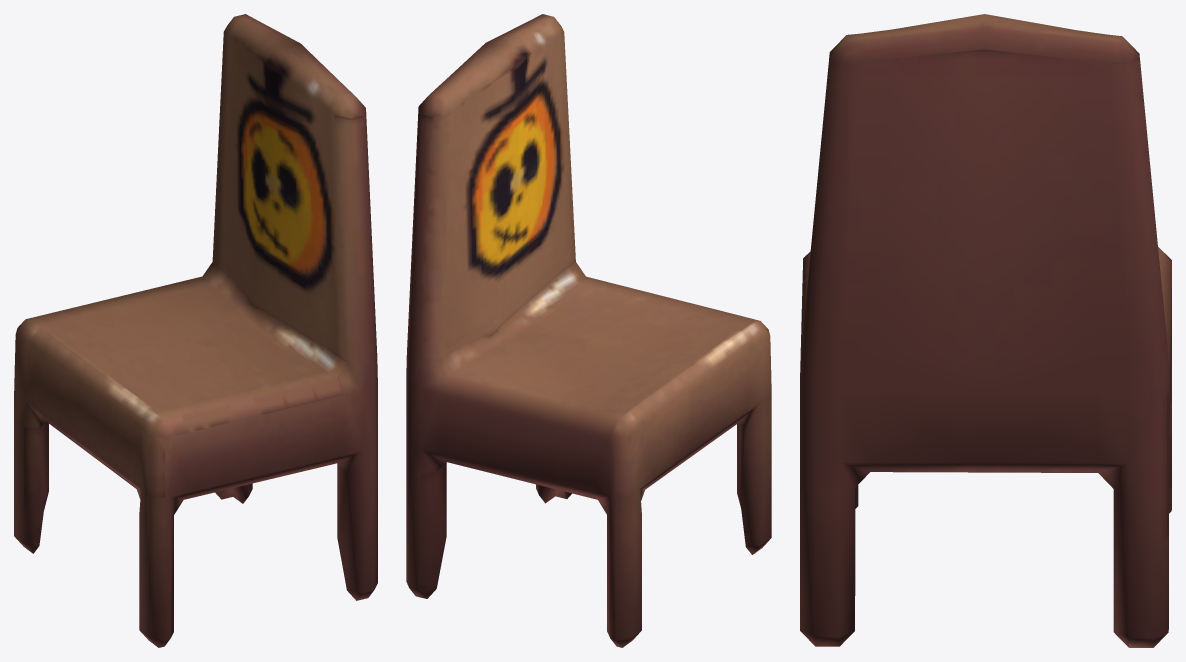
File: SeatEggo01.glb
3 views of the same model, side by side, from view 1: azimuth 30°, elevation 25°; view 2: azimuth 150°, elevation 25°; view 3: azimuth 270°, elevation 25° (orthographic). The views are drawn at different scales.
Parts seen in each view (by area): view 1: SeatEggo1; view 2: SeatEggo1; view 3: SeatEggo1.
Boxes of the visible parts, <box> form: SeatEggo1: <box>14,14,377,647</box>; SeatEggo1: <box>406,14,771,647</box>; SeatEggo1: <box>800,14,1171,647</box>.
Size of the model in its own units: 2.02 by 4.24 by 2.31.
1 material, 1 textured.
